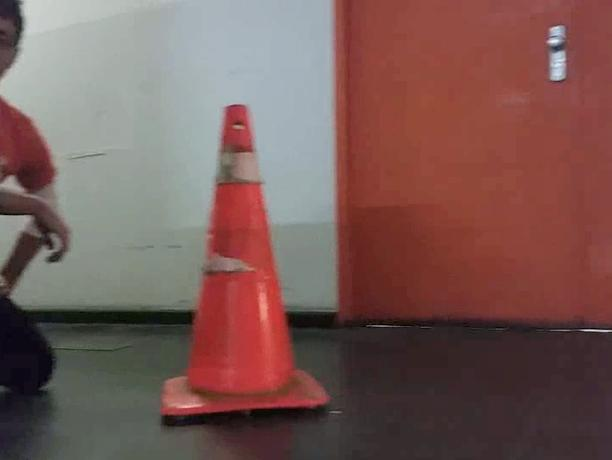0 cone: (161, 104, 327, 416)
